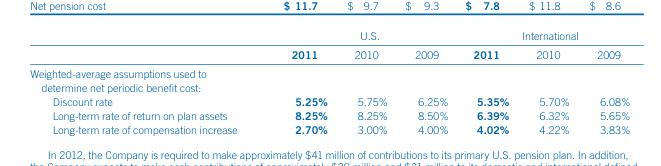table: (29, 28, 629, 134)
table column: (29, 28, 263, 134), (263, 28, 340, 134), (460, 28, 521, 134), (521, 28, 582, 134), (340, 28, 400, 134), (400, 28, 460, 134), (582, 28, 629, 134)
table column header: (29, 28, 629, 63)
table projected row header: (29, 63, 629, 93)
table row: (29, 63, 629, 93), (29, 44, 629, 63), (29, 28, 629, 44), (29, 93, 629, 107), (29, 107, 629, 121), (29, 121, 629, 134)
table spanning cell: (263, 28, 460, 44), (460, 28, 629, 44)
